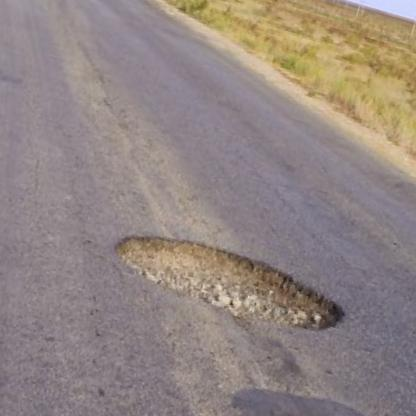pothole: (104, 221, 353, 345)
